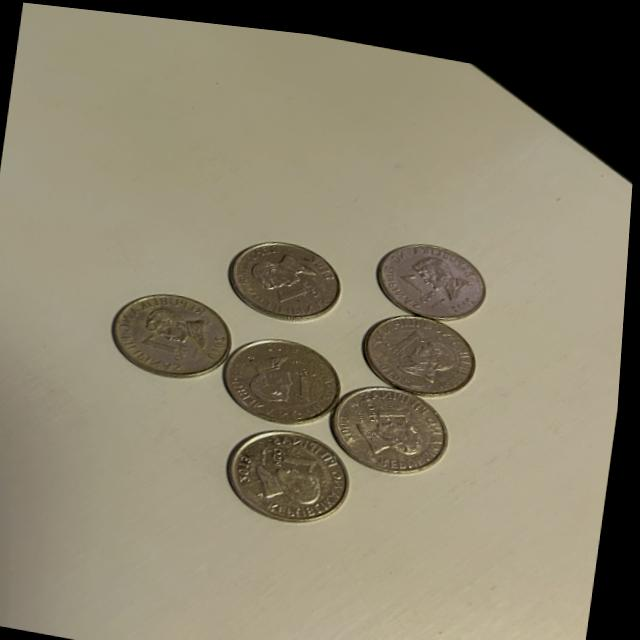1_Old_Front: (264, 432, 328, 472), (140, 326, 196, 363), (365, 387, 419, 424), (279, 267, 333, 303), (387, 313, 431, 354), (396, 259, 445, 292), (292, 355, 326, 399)
